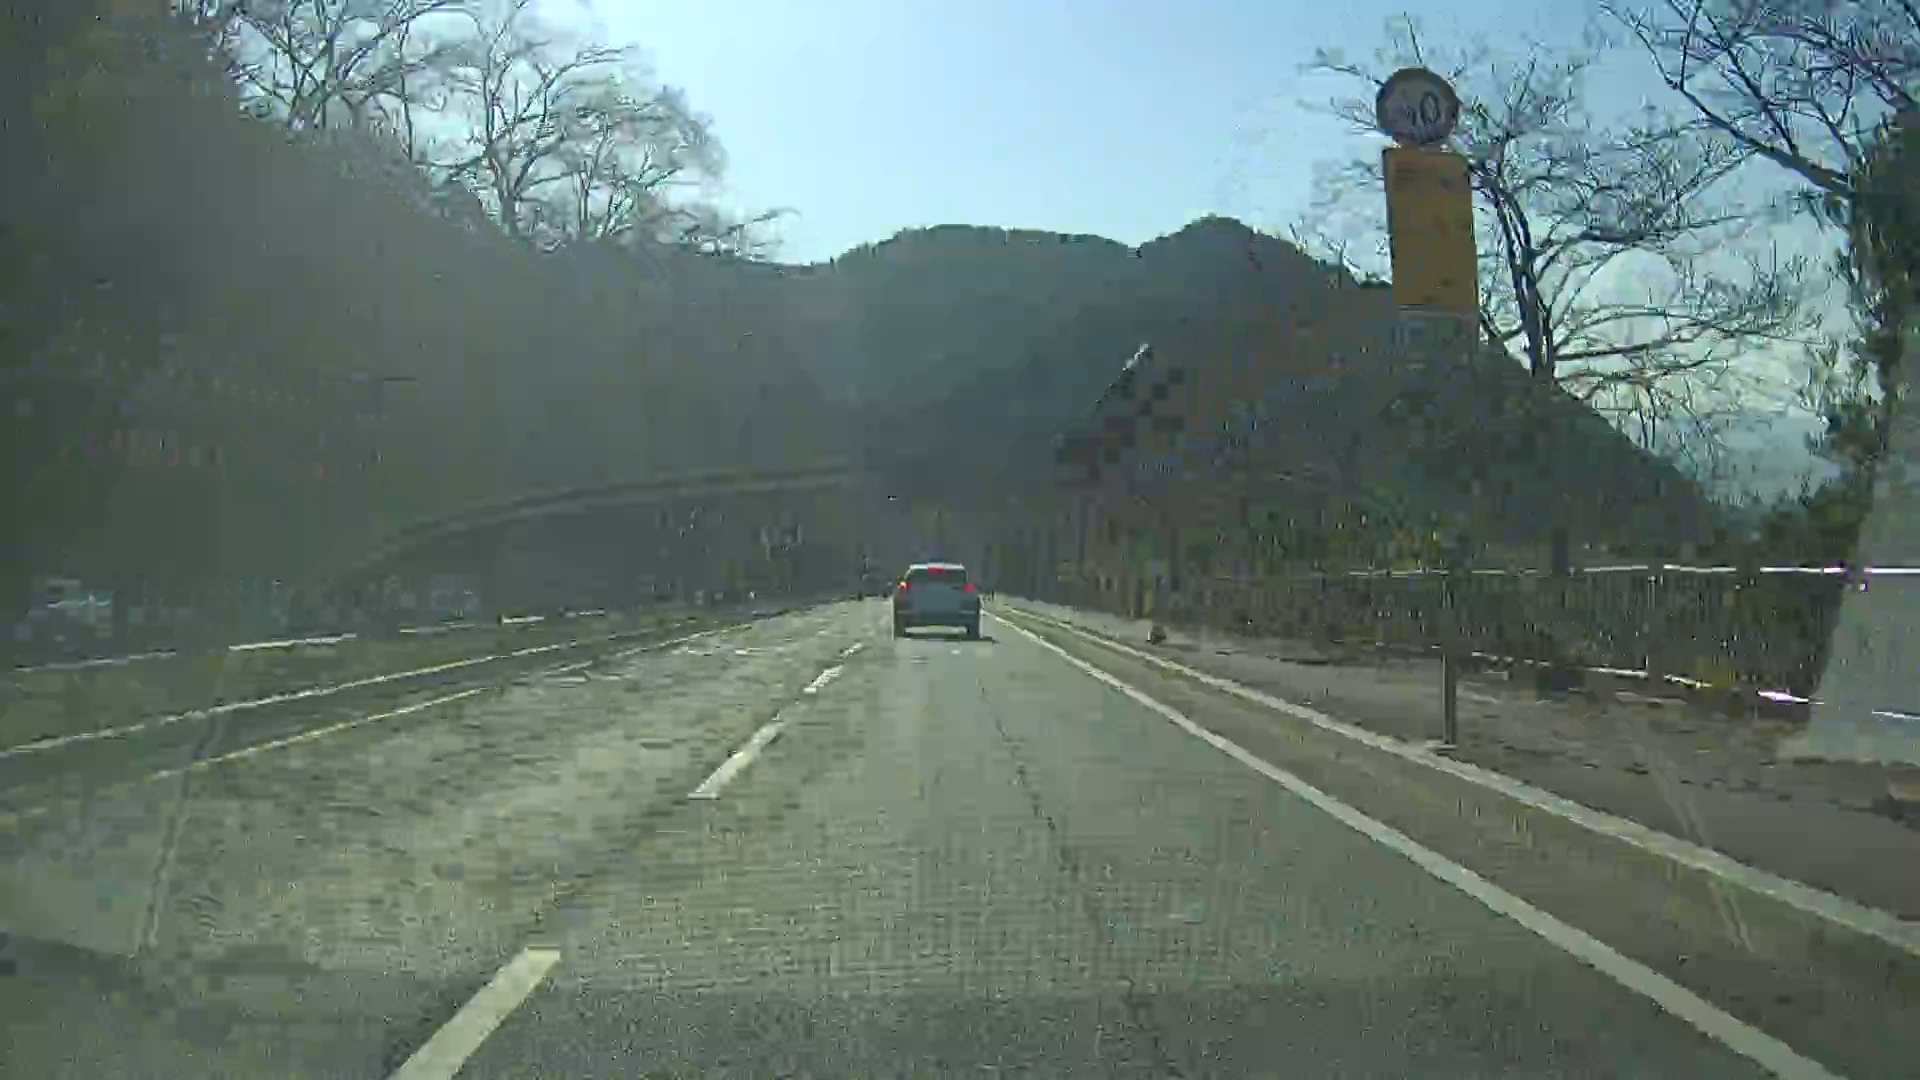trafficSignCircle: (1375, 69, 1460, 144)
